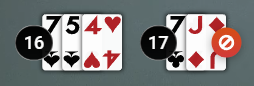4: (81, 13, 104, 37)
5: (60, 12, 82, 37)
7: (40, 12, 64, 38), (166, 13, 188, 37)
j: (185, 13, 206, 37)
